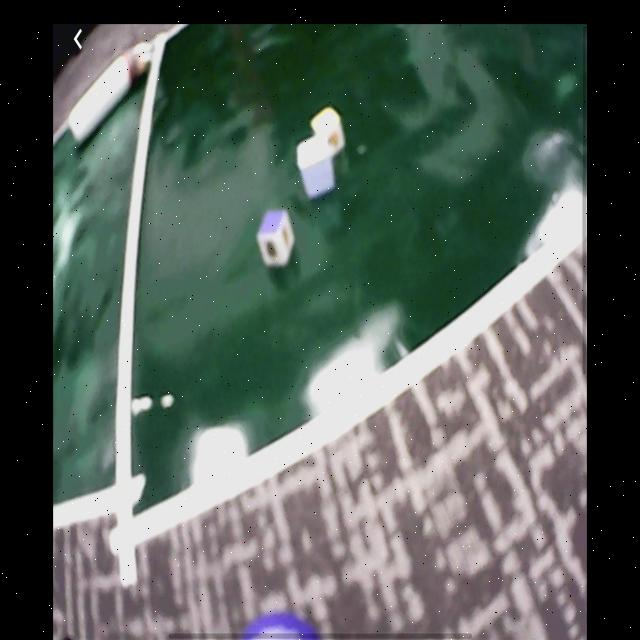ball: (235, 612, 320, 640)
